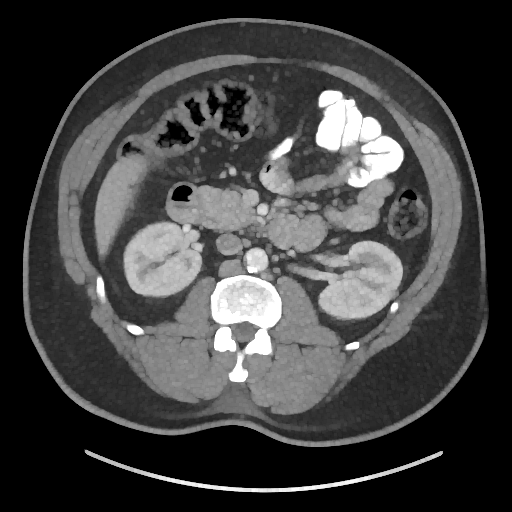Lesion: (390, 288, 399, 299)
